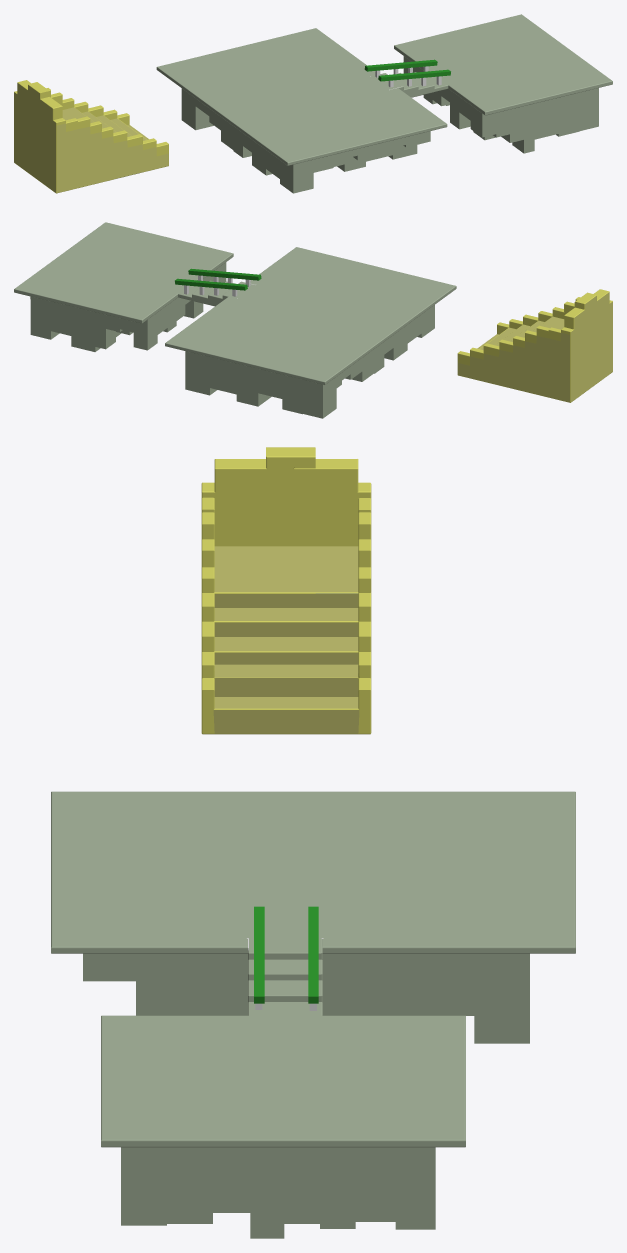
File: fase4.fbx
The picture shows the model from 3 angles, top to bottom: view 1: azimuth 30°, elevation 25°; view 2: azimuth 150°, elevation 25°; view 3: azimuth 270°, elevation 25°; orthographic projection. The views are drawn at different scales.
Visible parts, largest first — view 1: Cube, Cube.001, Cube.003, Cube.002; view 2: Cube, Cube.001, Cube.003, Cube.002; view 3: Cube, Cube.001, Cube.003.
Boxes of the visible parts, x1,y1,x2,y2 form: Cube: [156, 14, 612, 193]; Cube.001: [14, 80, 168, 193]; Cube.003: [364, 59, 450, 81]; Cube.002: [375, 66, 441, 87]; Cube: [14, 222, 456, 418]; Cube.001: [457, 289, 612, 402]; Cube.003: [175, 268, 261, 290]; Cube.002: [184, 275, 250, 296]; Cube: [51, 791, 575, 1238]; Cube.001: [201, 447, 371, 734]; Cube.003: [254, 906, 318, 1003].
Size of the model in its own units: 29212 by 7509 by 12487.
